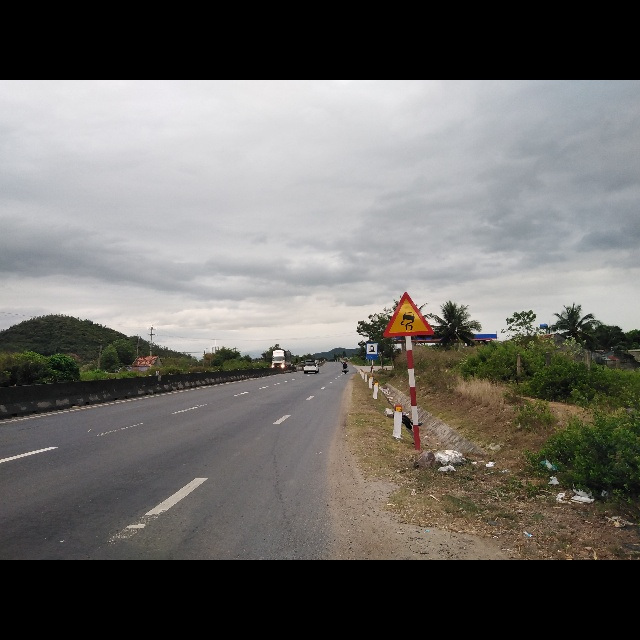Đường trơn trượt: (384, 287, 436, 338)
